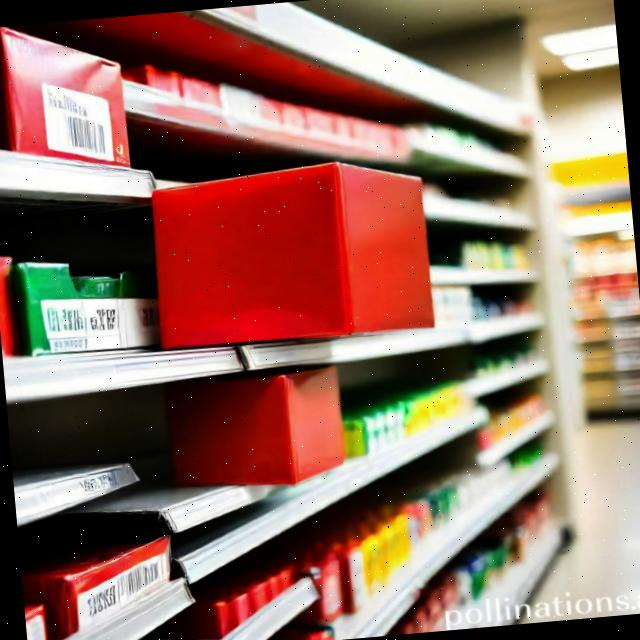red_block: (147, 152, 437, 354), (176, 369, 350, 488)
